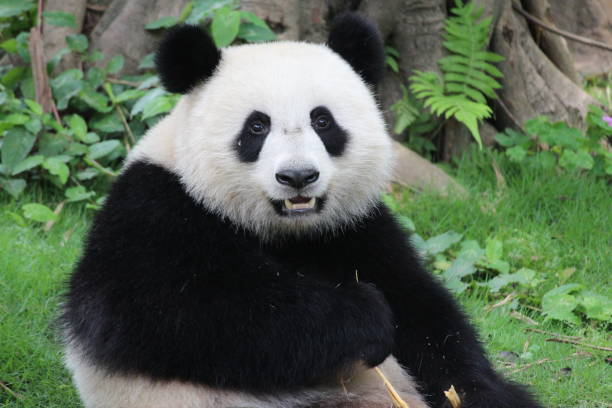panda: (144, 11, 413, 265)
